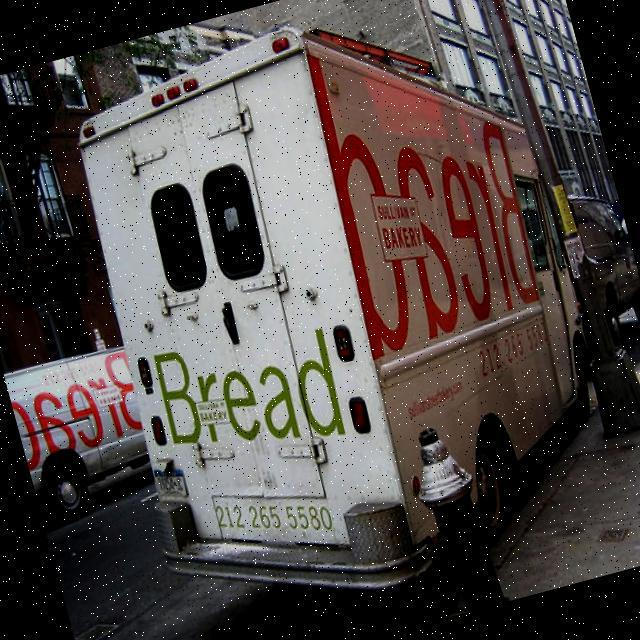fire_hydrant: (395, 417, 510, 618)
